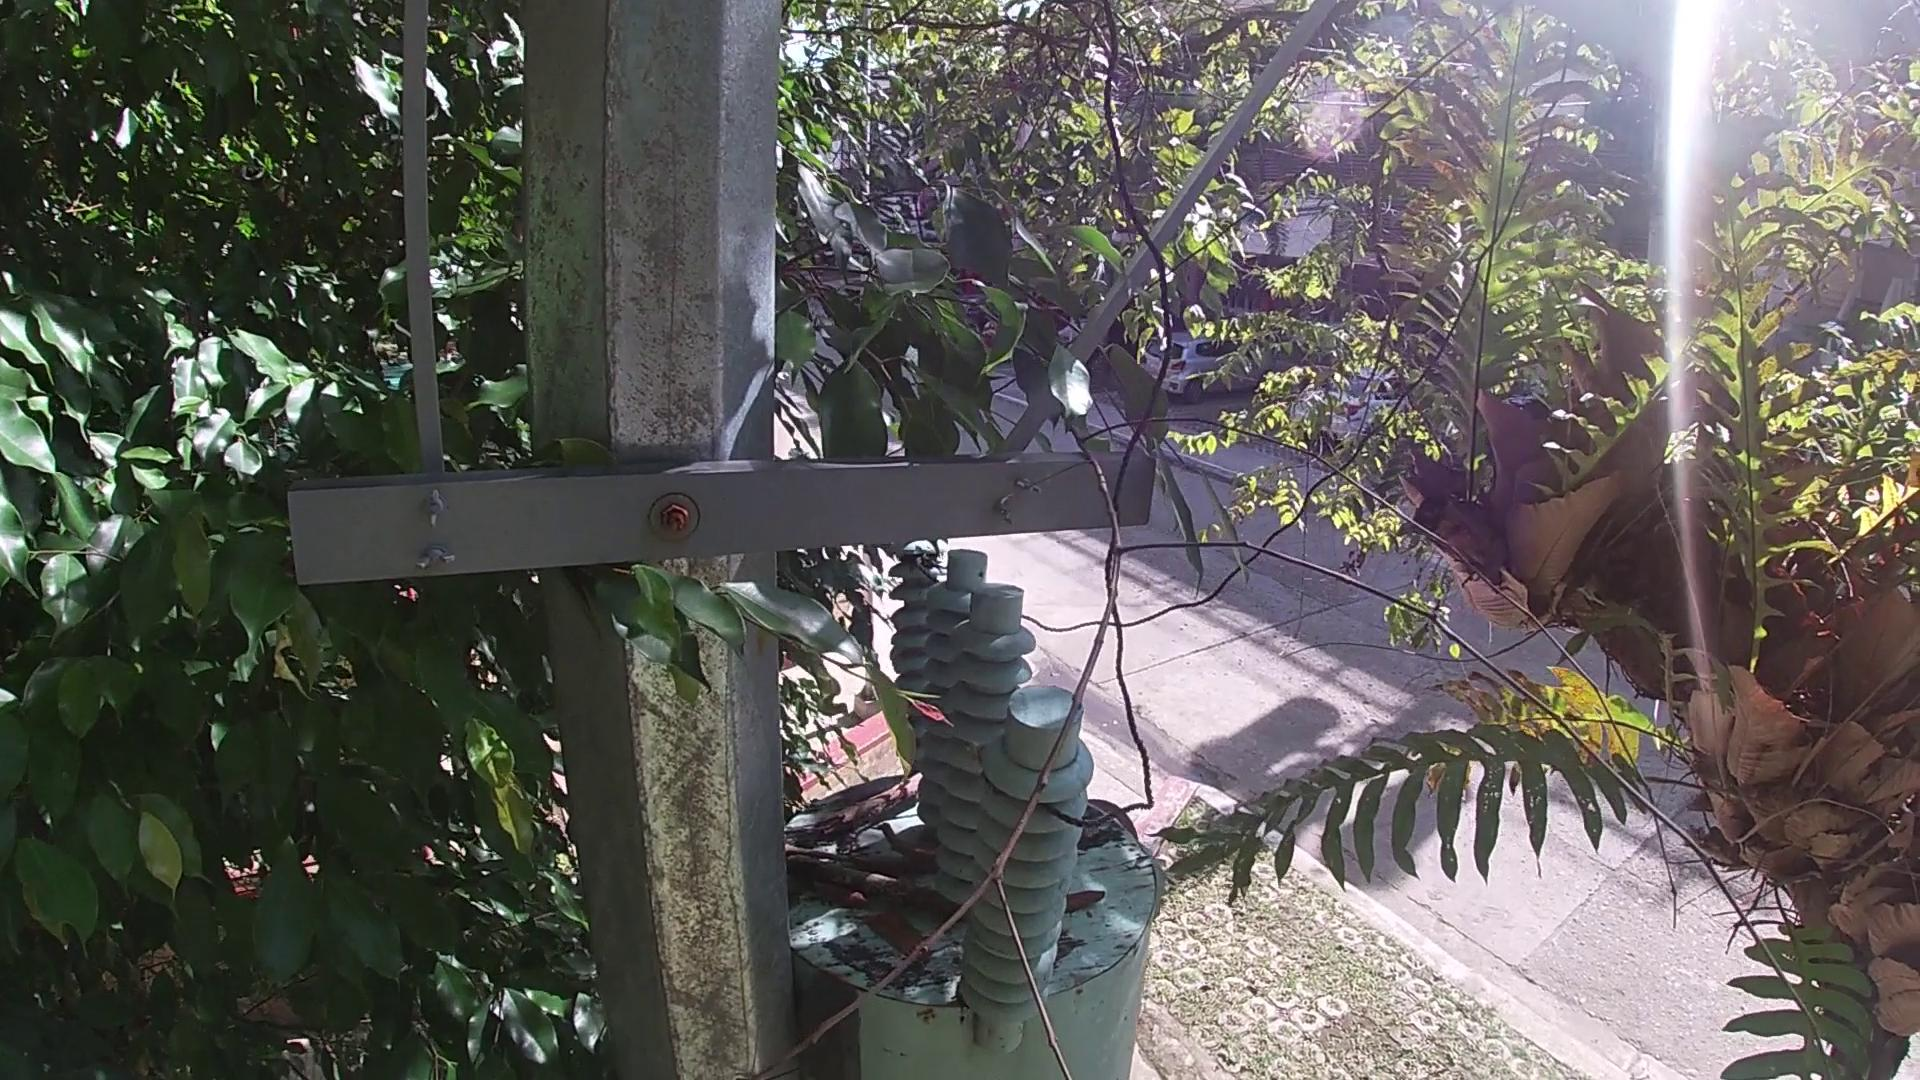leaf: (861, 916, 943, 967), (804, 885, 882, 913)
mahogany fruit: (874, 814, 957, 861), (1059, 876, 1114, 923)
tree branch: (766, 392, 1853, 1067), (804, 756, 924, 829), (787, 862, 949, 913), (781, 847, 851, 862)
